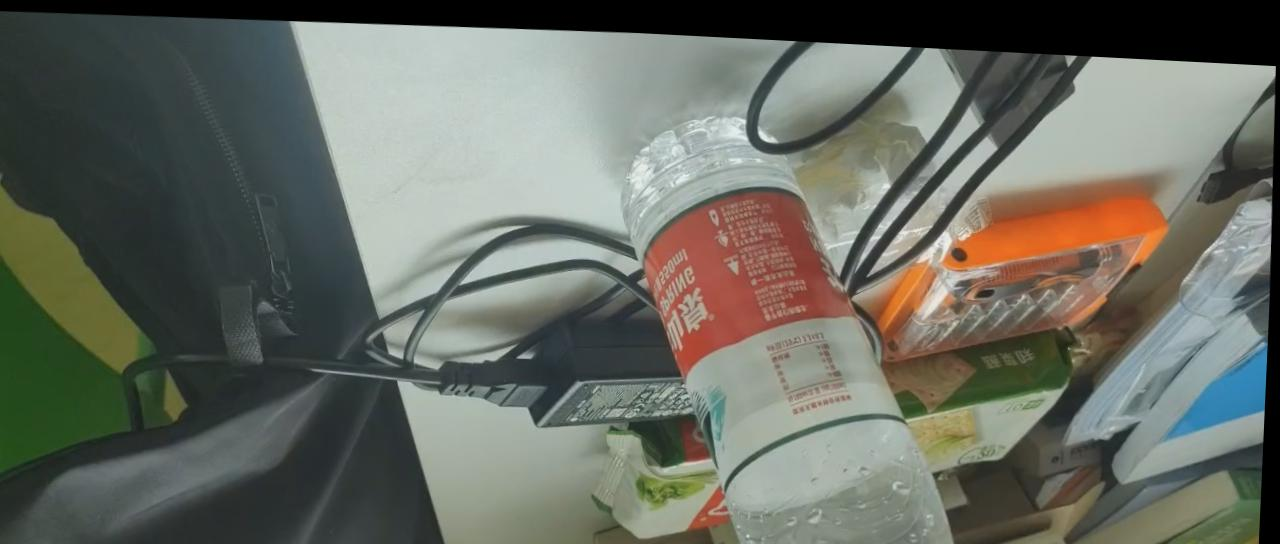plastic: (598, 104, 992, 544)
